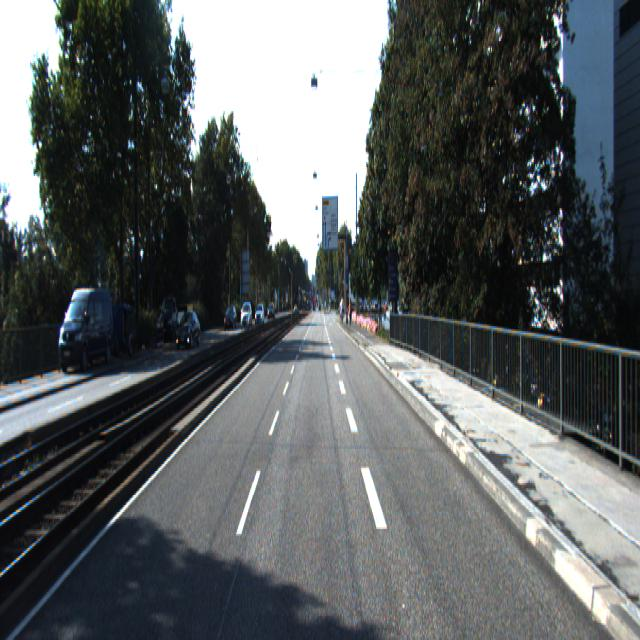Car: (58, 286, 115, 374), (111, 301, 138, 359), (158, 297, 186, 345), (175, 310, 202, 352), (182, 304, 194, 336), (240, 301, 253, 329)
